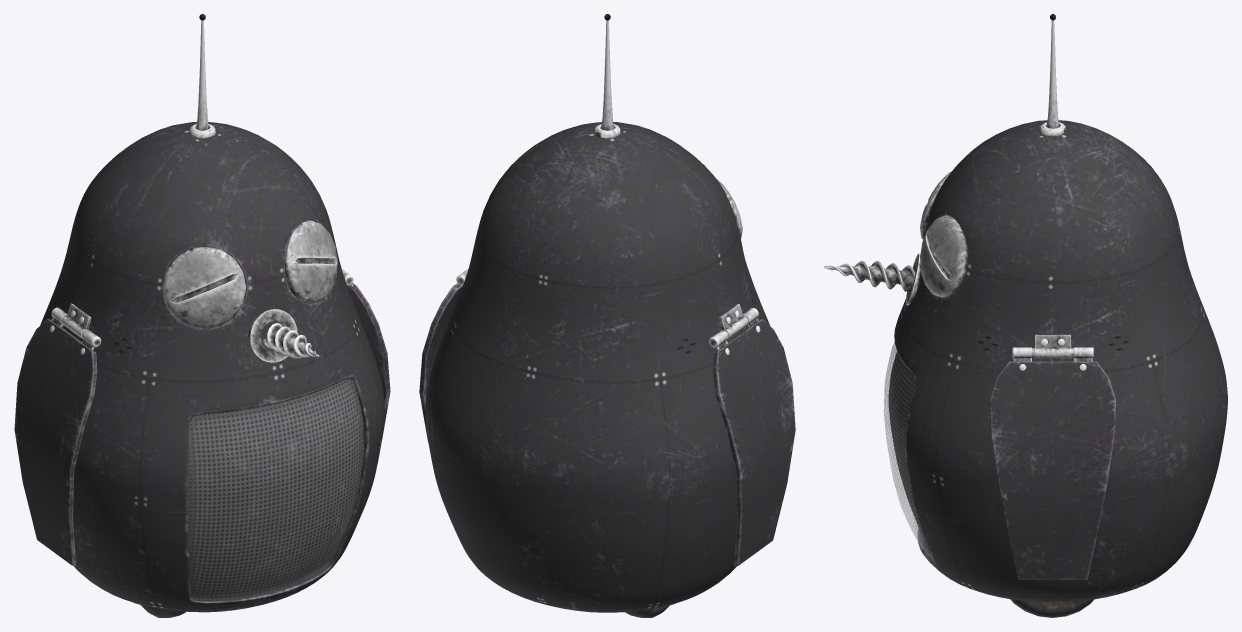
File: weathered_penguin-bot-v2.glb
3 views of the same model, side by side, from view 1: azimuth 30°, elevation 25°; view 2: azimuth 150°, elevation 25°; view 3: azimuth 270°, elevation 25° (orthographic).
Visible parts, largest first — view 1: penguinobj:penguin19_penguinobj:initialShadingGroup1_0; view 2: penguinobj:penguin19_penguinobj:initialShadingGroup1_0; view 3: penguinobj:penguin19_penguinobj:initialShadingGroup1_0.
Part boxes in pixels (box(x1,y1,x2,y2)): penguinobj:penguin19_penguinobj:initialShadingGroup1_0: box(14, 14, 390, 617); penguinobj:penguin19_penguinobj:initialShadingGroup1_0: box(419, 14, 795, 617); penguinobj:penguin19_penguinobj:initialShadingGroup1_0: box(824, 14, 1227, 617).
Size of the model in its own units: 4.48 by 7.85 by 4.96.
1 material, 1 textured.
